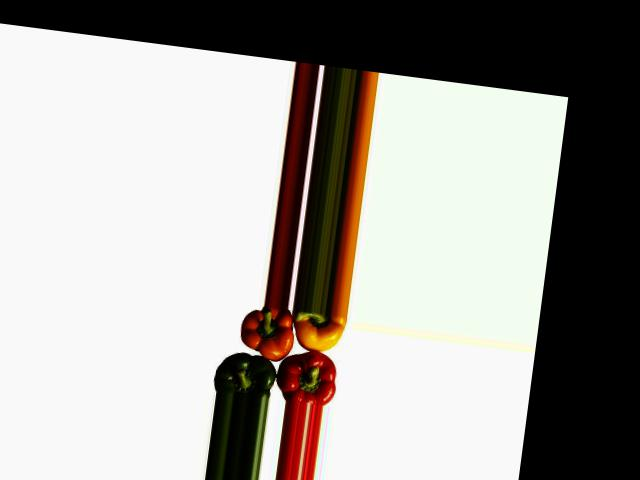bell_pepper: (285, 308, 348, 357)
